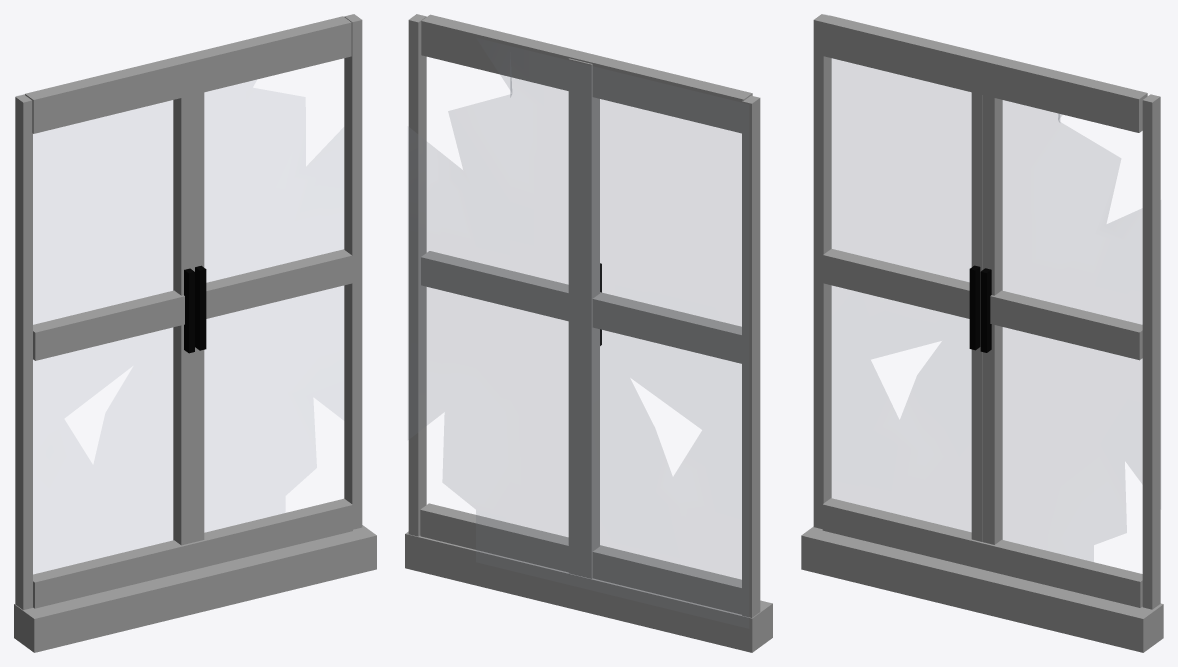
File: ventana2.fbx
3 renders of one model, left to right at view 1: azimuth 30°, elevation 25°; view 2: azimuth 150°, elevation 25°; view 3: azimuth 330°, elevation 25°, orthographic.
Visible parts, largest first — view 1: pPlane1; view 2: pPlane1; view 3: pPlane1.
Part boxes in pixels (box(x1,y1,x2,y2)): pPlane1: box(14, 14, 376, 652); pPlane1: box(405, 14, 772, 652); pPlane1: box(801, 14, 1163, 652).
Bounding box in the file's own units: 1.96 × 2.97 × 0.2438.
